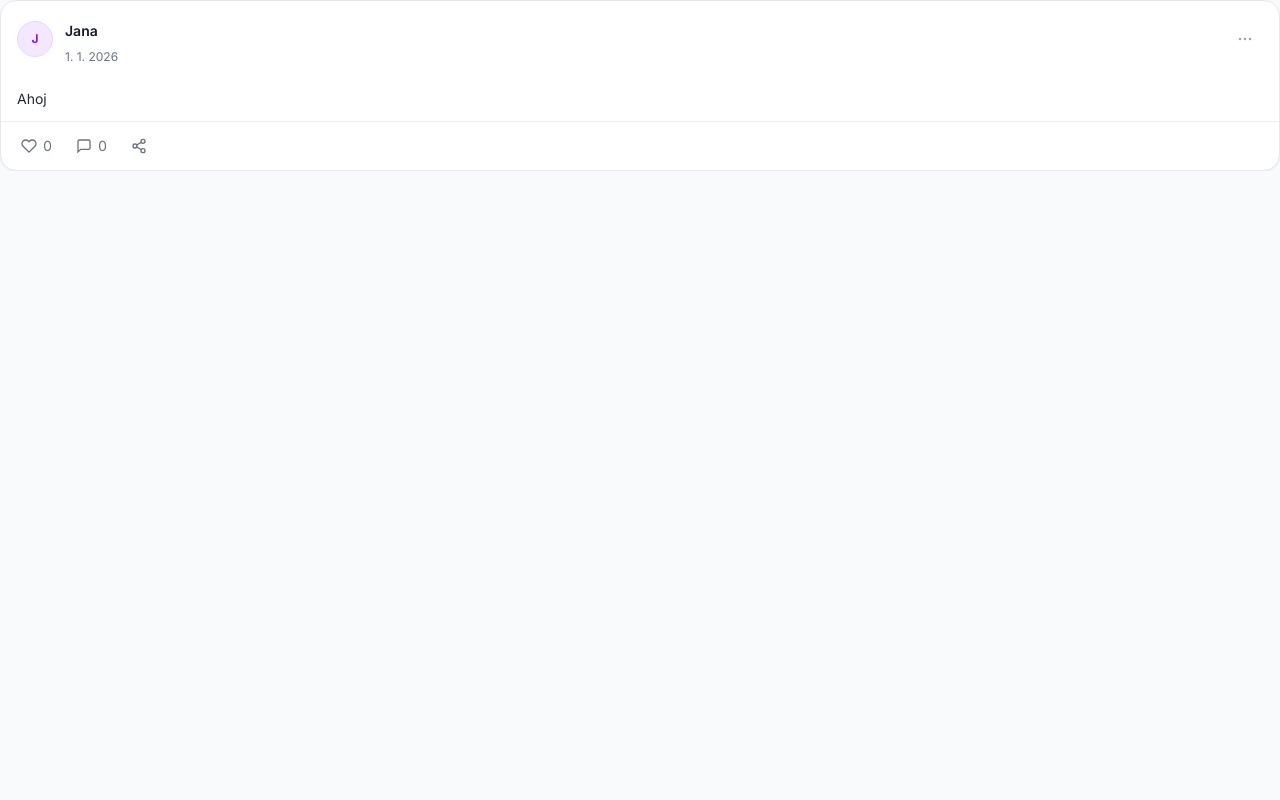
Test case: runs the clicked item instead of just closing
Step 1. Click the button with test id "feed-post-menu-trigger" → (1245, 39), box left=1227, top=21, right=1263, bottom=57
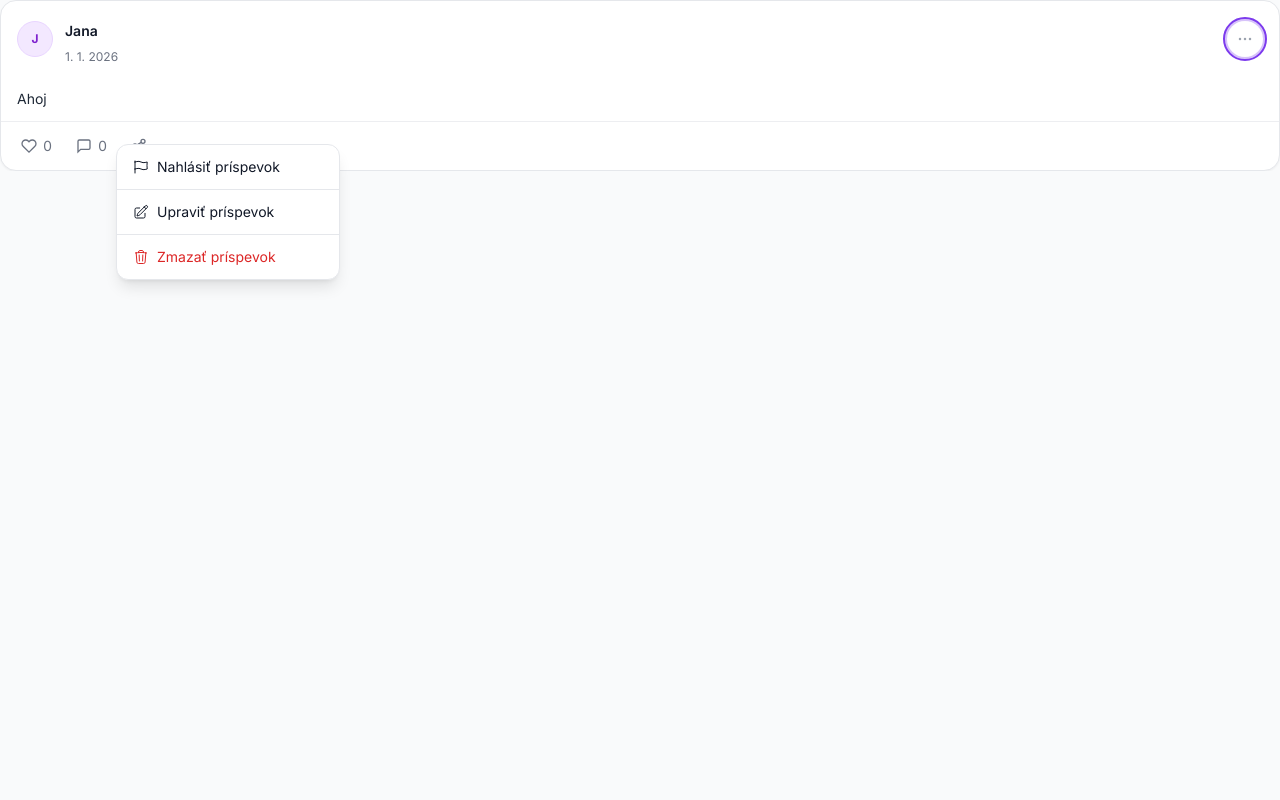
Step 2. Click the menu item with test id "feed-post-edit" → (228, 212), box left=117, top=189, right=339, bottom=234
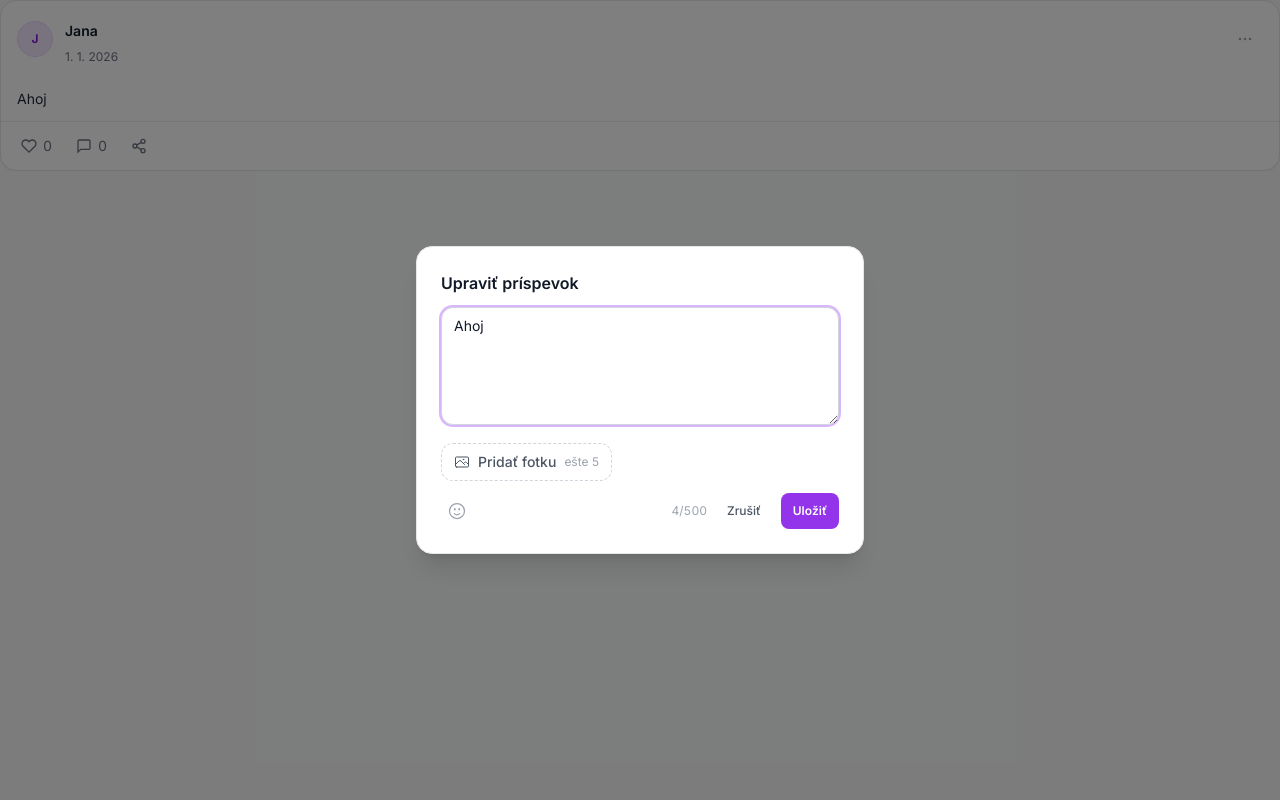
Expected: the dialog with test id "feed-post-edit-modal" is shown
